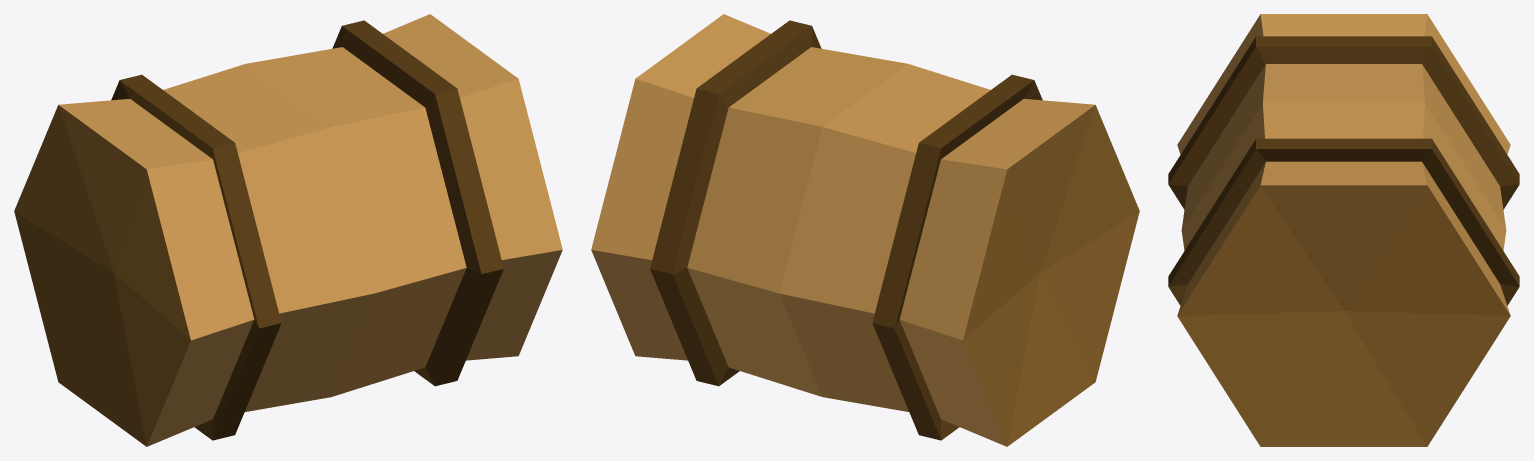
Rendered from HayBale.fbx.
The picture shows the model from 3 angles, left to right: view 1: azimuth 30°, elevation 25°; view 2: azimuth 150°, elevation 25°; view 3: azimuth 270°, elevation 25°; orthographic projection. The views are drawn at different scales.
Parts seen in each view (by area): view 1: HayBale; view 2: HayBale; view 3: HayBale.
Boxes of the visible parts, x1,y1,x2,y2 form: HayBale: [14, 14, 562, 446]; HayBale: [591, 14, 1139, 446]; HayBale: [1168, 14, 1519, 446].
Bounding box in the file's own units: 1.01 × 0.7594 × 0.8769.
